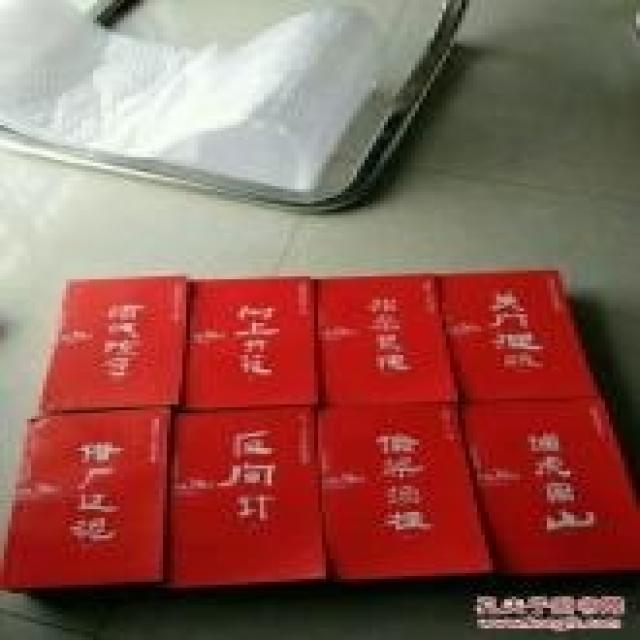box: (458, 399, 640, 576), (318, 404, 496, 582), (0, 407, 175, 588), (167, 407, 326, 588), (438, 271, 601, 401), (39, 276, 186, 416), (182, 276, 322, 410), (318, 276, 458, 404)
